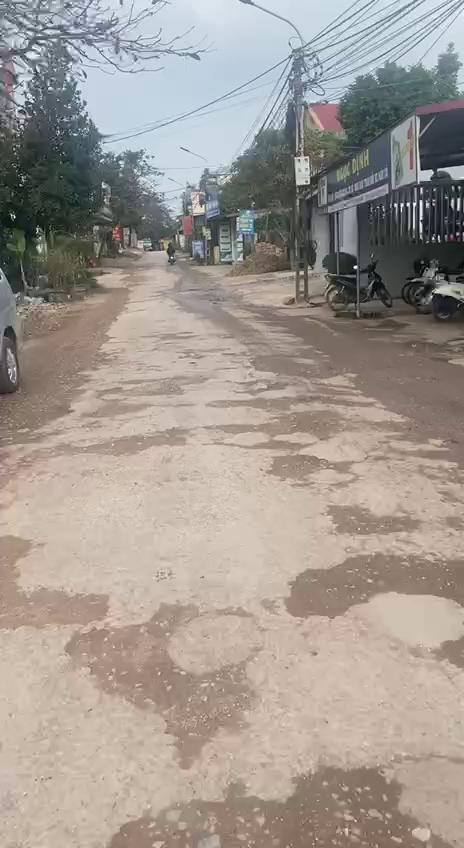pothole: (52, 601, 258, 776), (92, 768, 462, 848), (288, 540, 464, 672), (0, 532, 112, 630), (206, 403, 362, 446), (80, 372, 210, 421), (64, 422, 200, 459), (316, 495, 417, 544), (263, 450, 367, 488), (248, 351, 348, 382)
